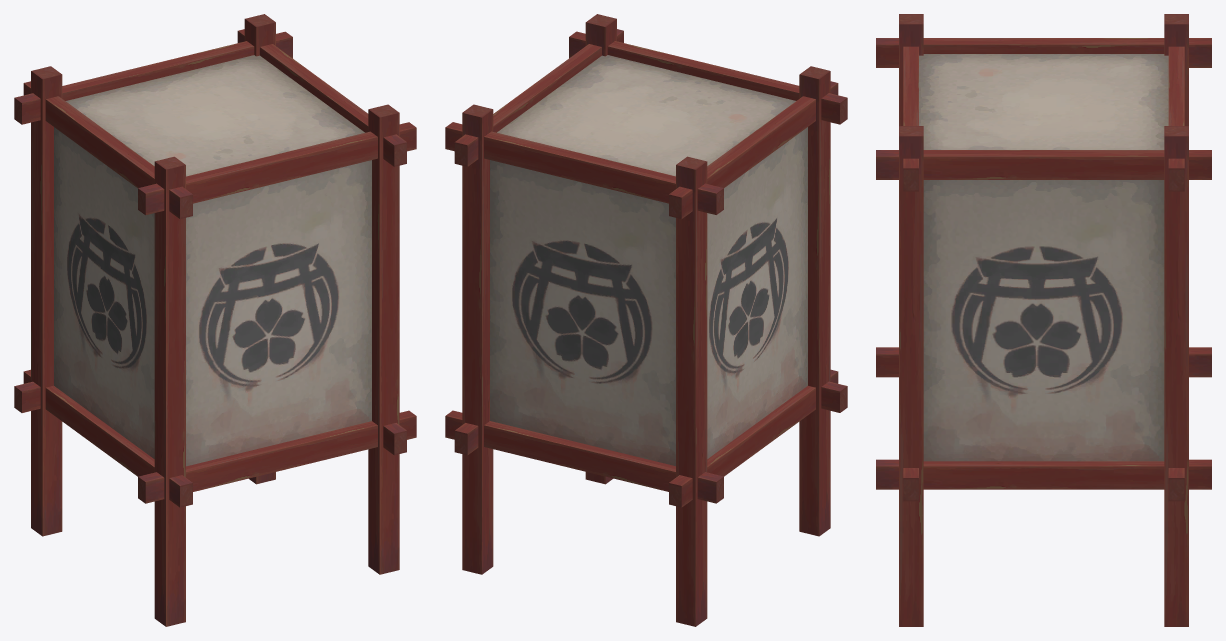
Rendered from Homeworld_Exterior_Dq_Lamp_Glim_01_Vo.fbx.
The picture shows the model from 3 angles, left to right: view 1: azimuth 30°, elevation 25°; view 2: azimuth 150°, elevation 25°; view 3: azimuth 270°, elevation 25°; orthographic projection. The views are drawn at different scales.
Visible parts, largest first — view 1: Area_Dq_Light_MS_DasheLamp_03_Vo; view 2: Area_Dq_Light_MS_DasheLamp_03_Vo; view 3: Area_Dq_Light_MS_DasheLamp_03_Vo.
Boxes of the visible parts, <box> form: Area_Dq_Light_MS_DasheLamp_03_Vo: <box>14,14,416,626</box>; Area_Dq_Light_MS_DasheLamp_03_Vo: <box>445,14,847,626</box>; Area_Dq_Light_MS_DasheLamp_03_Vo: <box>876,14,1211,626</box>.
Bounding box in the file's own units: 0.3553 × 0.5727 × 0.3553.
1 material, 1 textured.
